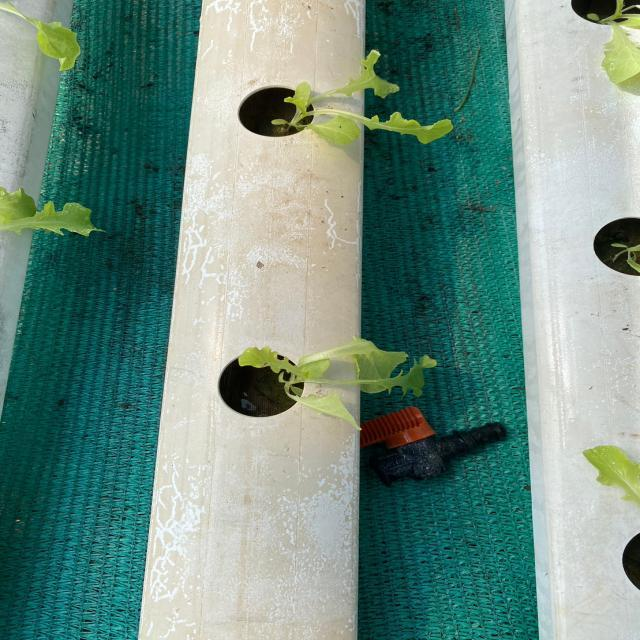Lettuce-Not-Ready-to-Harvest: (239, 336, 436, 431), (271, 50, 452, 144), (1, 2, 80, 71), (588, 0, 640, 93), (0, 188, 99, 236), (584, 445, 640, 504)
